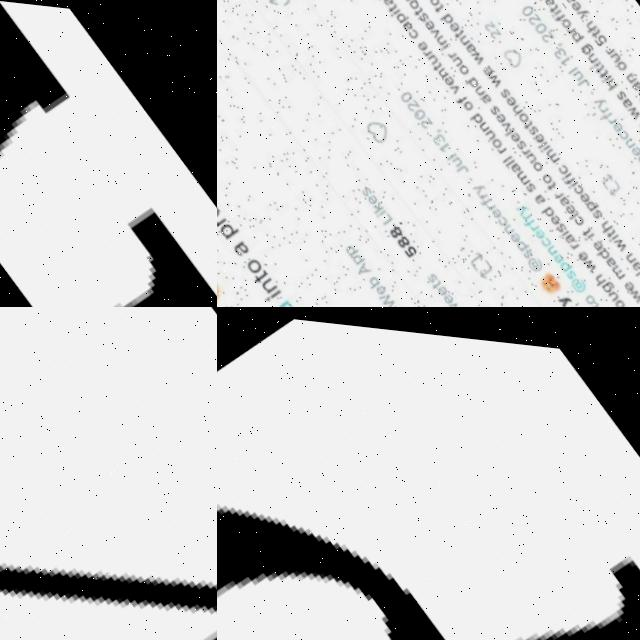0: (397, 82, 413, 99), (532, 10, 548, 27), (410, 100, 426, 116), (518, 0, 534, 9)
1: (437, 135, 450, 147), (559, 45, 572, 57)
2: (416, 108, 433, 125), (404, 92, 420, 108), (540, 20, 554, 36), (526, 3, 540, 18), (487, 19, 500, 32), (482, 12, 495, 25)
3: (551, 35, 568, 52), (429, 125, 445, 141)
5: (400, 237, 416, 253), (593, 23, 607, 38)
8: (392, 226, 410, 244), (385, 218, 402, 234)
A: (0, 0, 217, 307)
P: (217, 501, 449, 640)
V: (0, 307, 217, 640)
